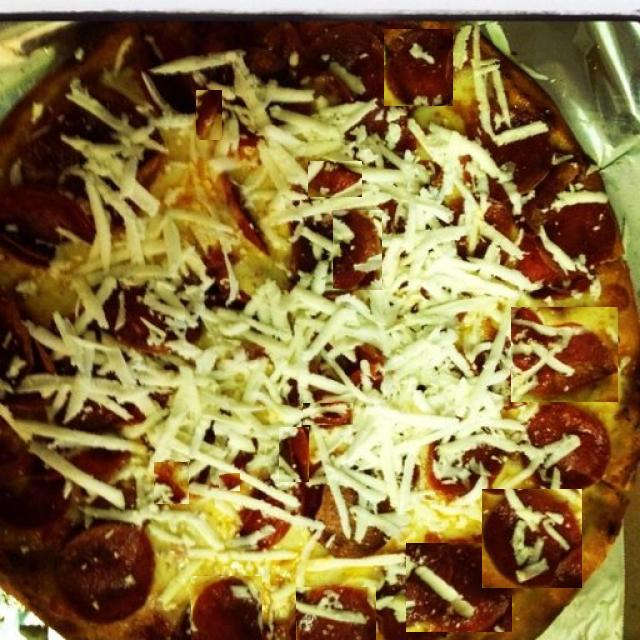pepperoni: (512, 307, 620, 403), (482, 489, 582, 588), (406, 544, 512, 634), (62, 524, 154, 617), (524, 398, 612, 494), (384, 29, 453, 106), (191, 576, 262, 640), (296, 587, 376, 640), (333, 210, 382, 290), (428, 437, 482, 498), (61, 447, 132, 482), (239, 505, 292, 549), (308, 161, 362, 197), (279, 427, 309, 482), (154, 462, 189, 504), (196, 90, 222, 140), (303, 403, 353, 425), (357, 344, 381, 382), (535, 250, 561, 284), (524, 236, 543, 282), (219, 473, 240, 491)
